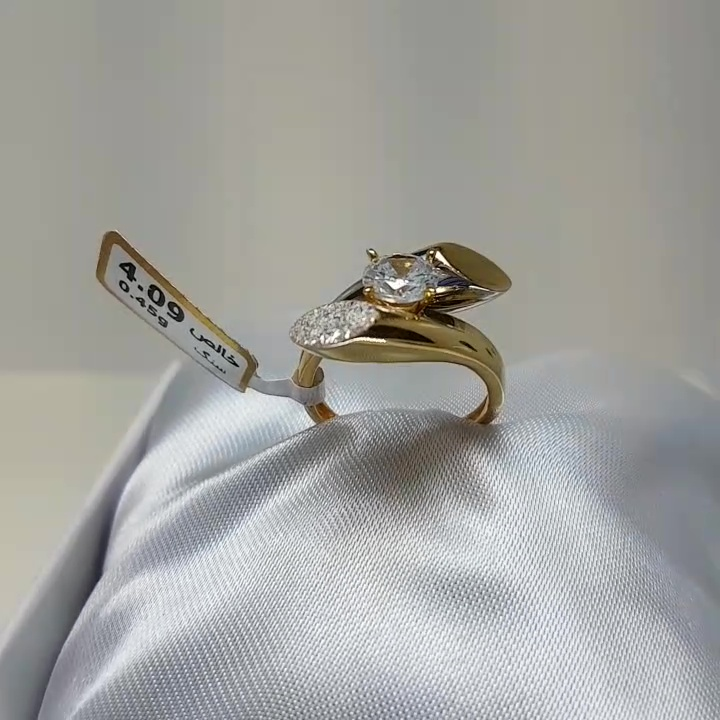Ring 7: (255, 224, 539, 465)
